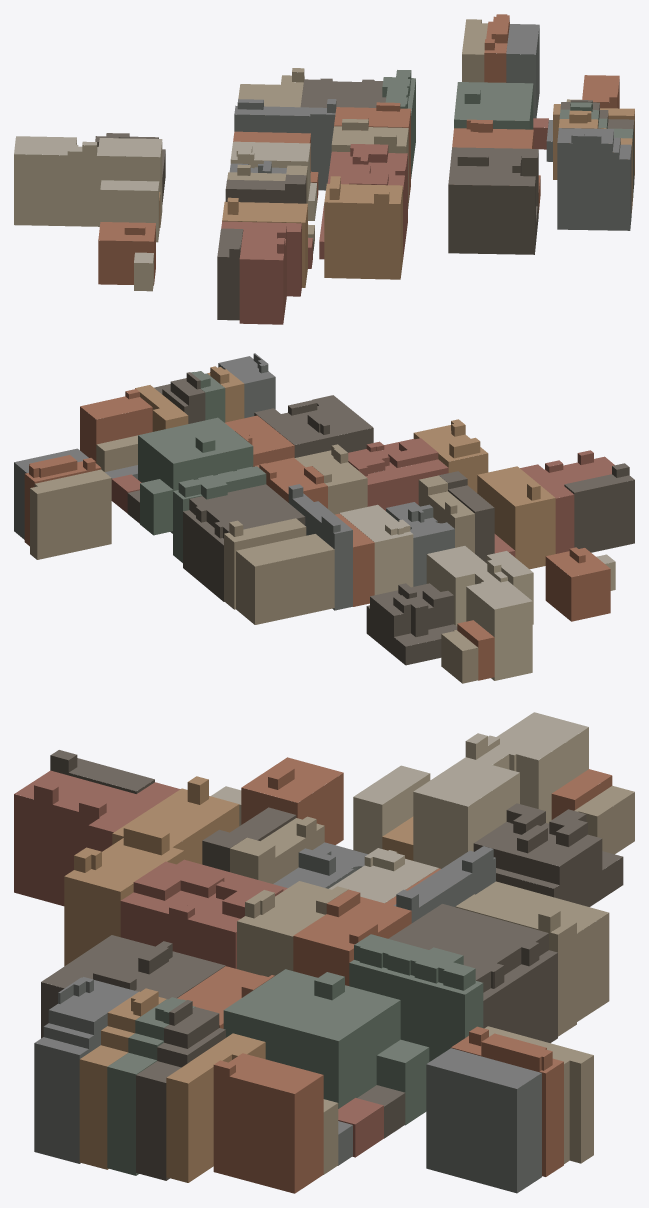
Rendered from tile--2_3.glb.
3 renders of one model, top to bottom at view 1: azimuth 30°, elevation 25°; view 2: azimuth 150°, elevation 25°; view 3: azimuth 270°, elevation 25°, orthographic. The views are drawn at different scales.
Parts seen in each view (by area): view 1: wall, roof; view 2: wall, roof; view 3: wall, roof.
Boxes of the visible parts, bbox=[...] form: wall: bbox=[14, 18, 634, 324]; roof: bbox=[14, 14, 634, 263]; wall: bbox=[14, 354, 634, 683]; roof: bbox=[14, 353, 634, 650]; wall: bbox=[14, 727, 634, 1193]; roof: bbox=[14, 712, 634, 1134].
Size of the model in its own units: 208 by 37.76 by 139.
